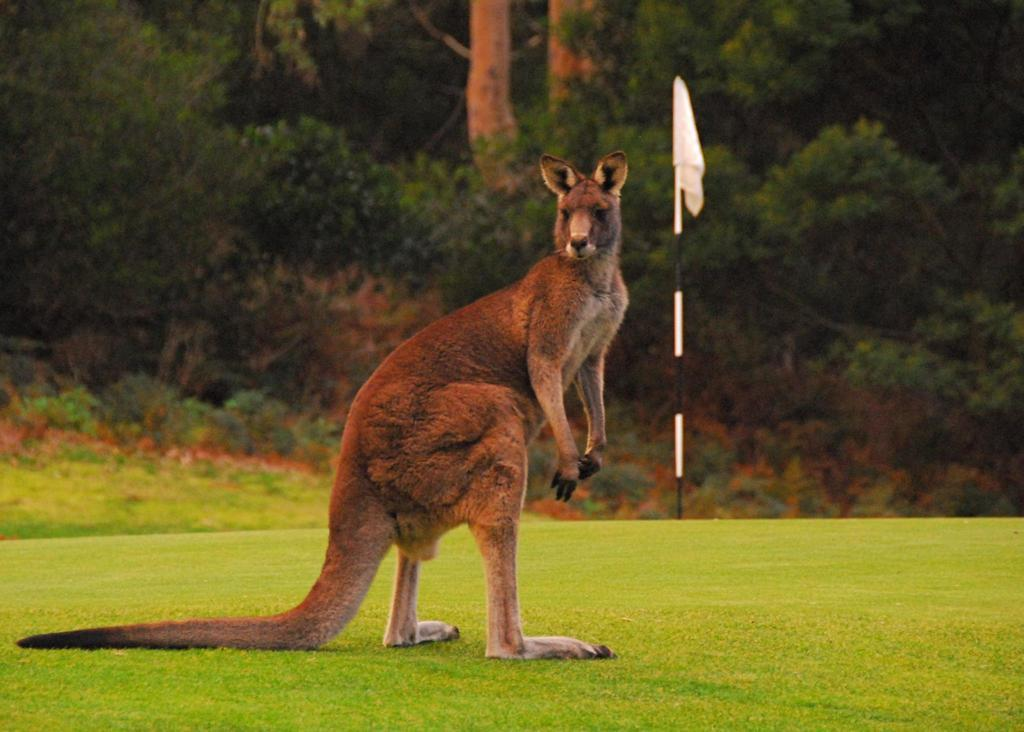kangaroo: (12, 151, 627, 656)
